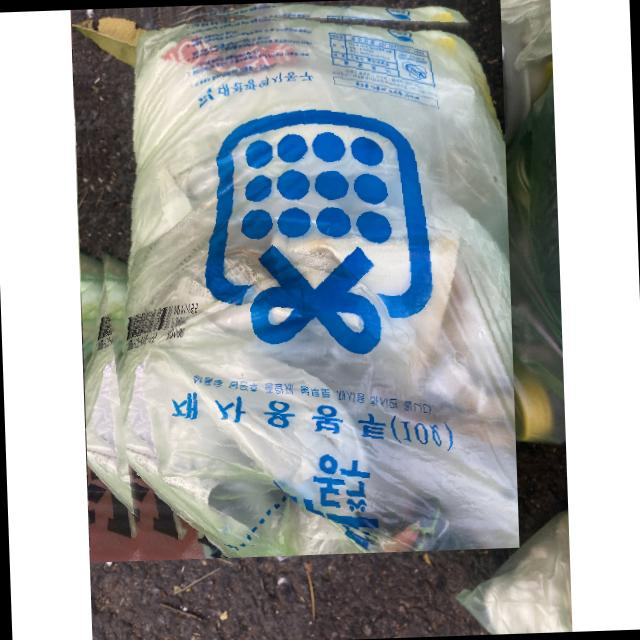general_trashbag: (110, 12, 518, 557)
